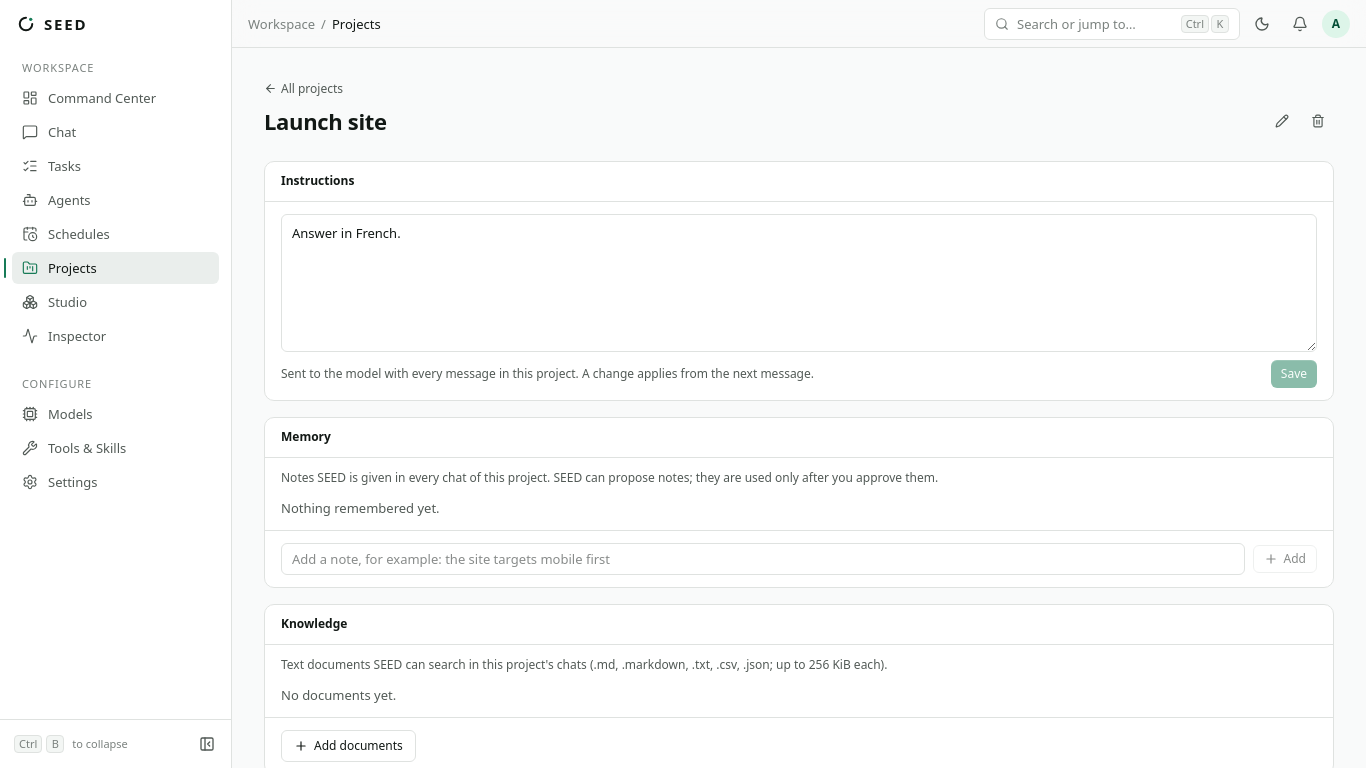
Projects › shows a project's chats and files, and saves its instructions
expect the button "Save" is disabled: met, box [1271,360,1317,388]
Replace the text in the text box named "Project instructions" with "Be brief.  ": (799,282) [281,214,1317,352]
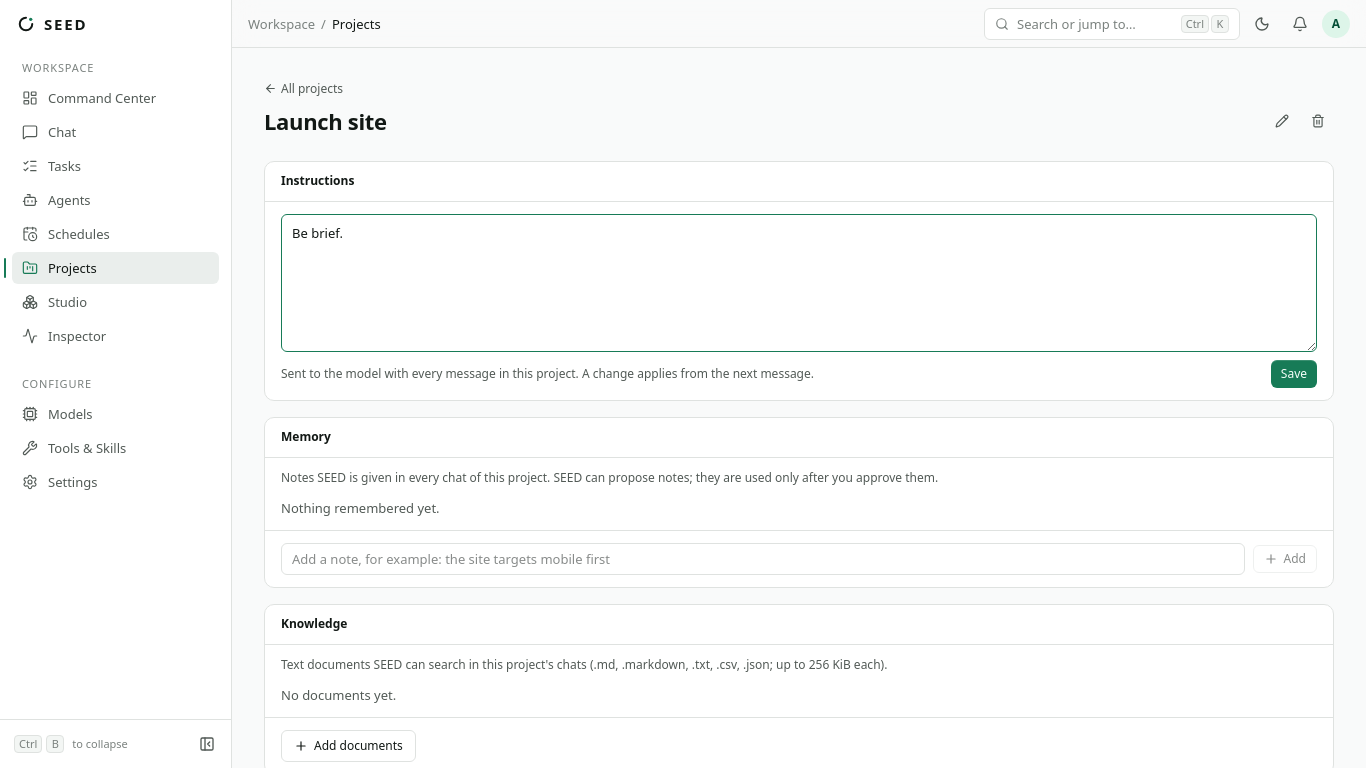
Click the button "Save": (1294,374) [1271,360,1317,388]
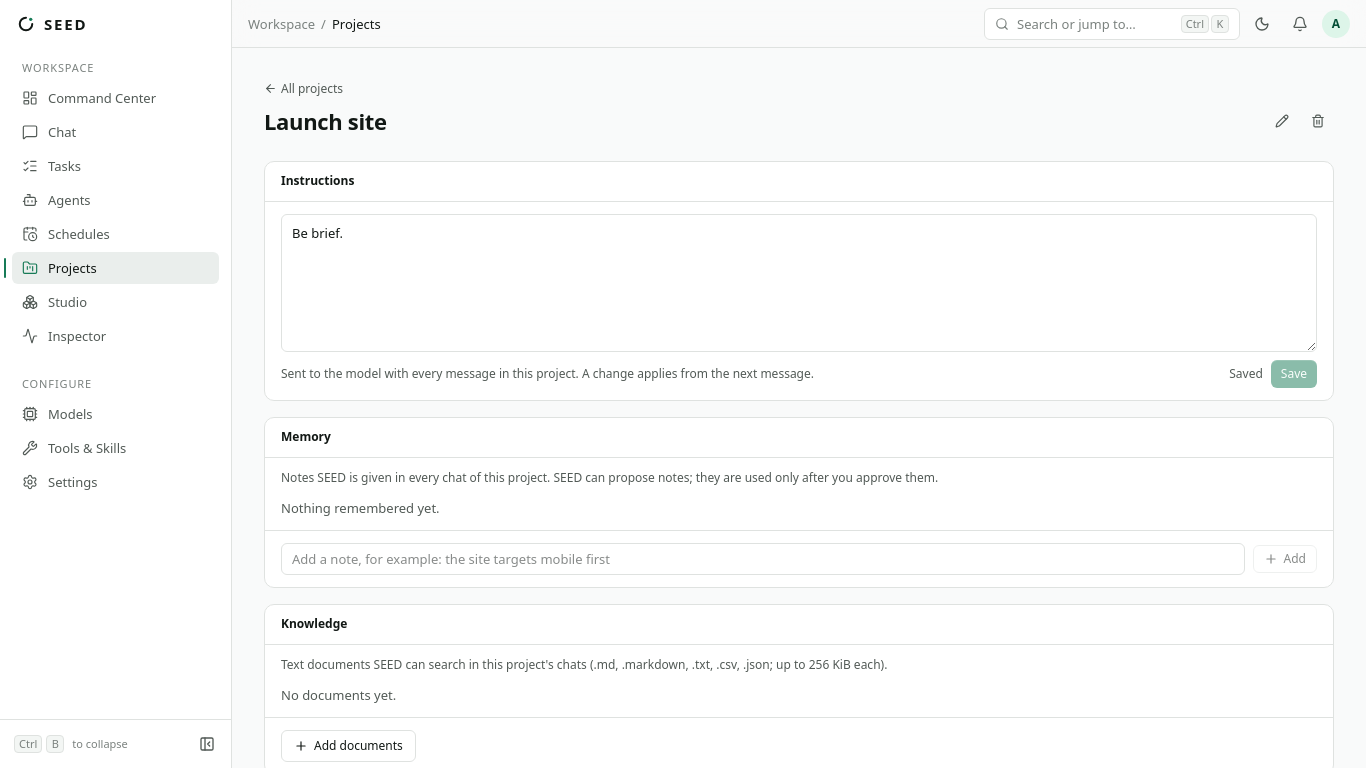
expect the text "Saved" is shown: met, box [1229,366,1263,382]
expect the button "Save" is disabled: met, box [1271,360,1317,388]
